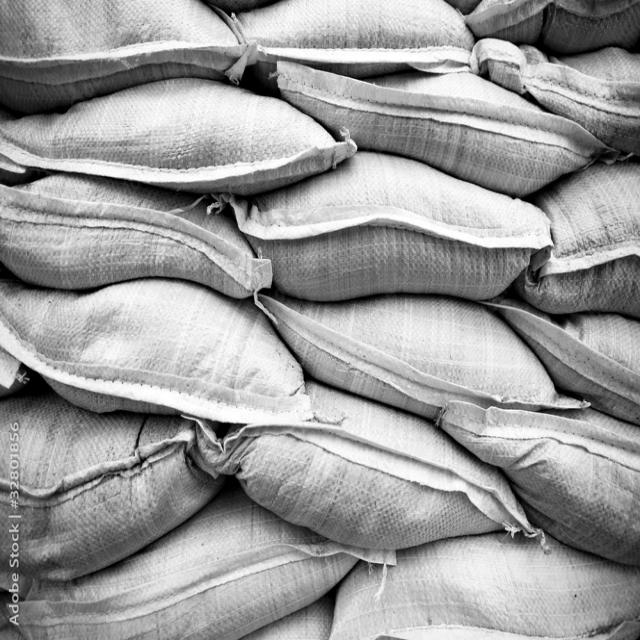sack: (9, 488, 395, 640), (191, 379, 535, 548), (209, 151, 553, 302), (276, 59, 616, 195), (1, 396, 222, 600), (1, 280, 307, 422), (256, 292, 590, 418), (1, 77, 356, 194), (1, 172, 271, 300), (327, 530, 640, 639), (438, 399, 639, 565), (1, 1, 245, 101), (470, 36, 640, 153), (518, 159, 640, 315), (486, 298, 639, 422), (244, 2, 473, 72)
